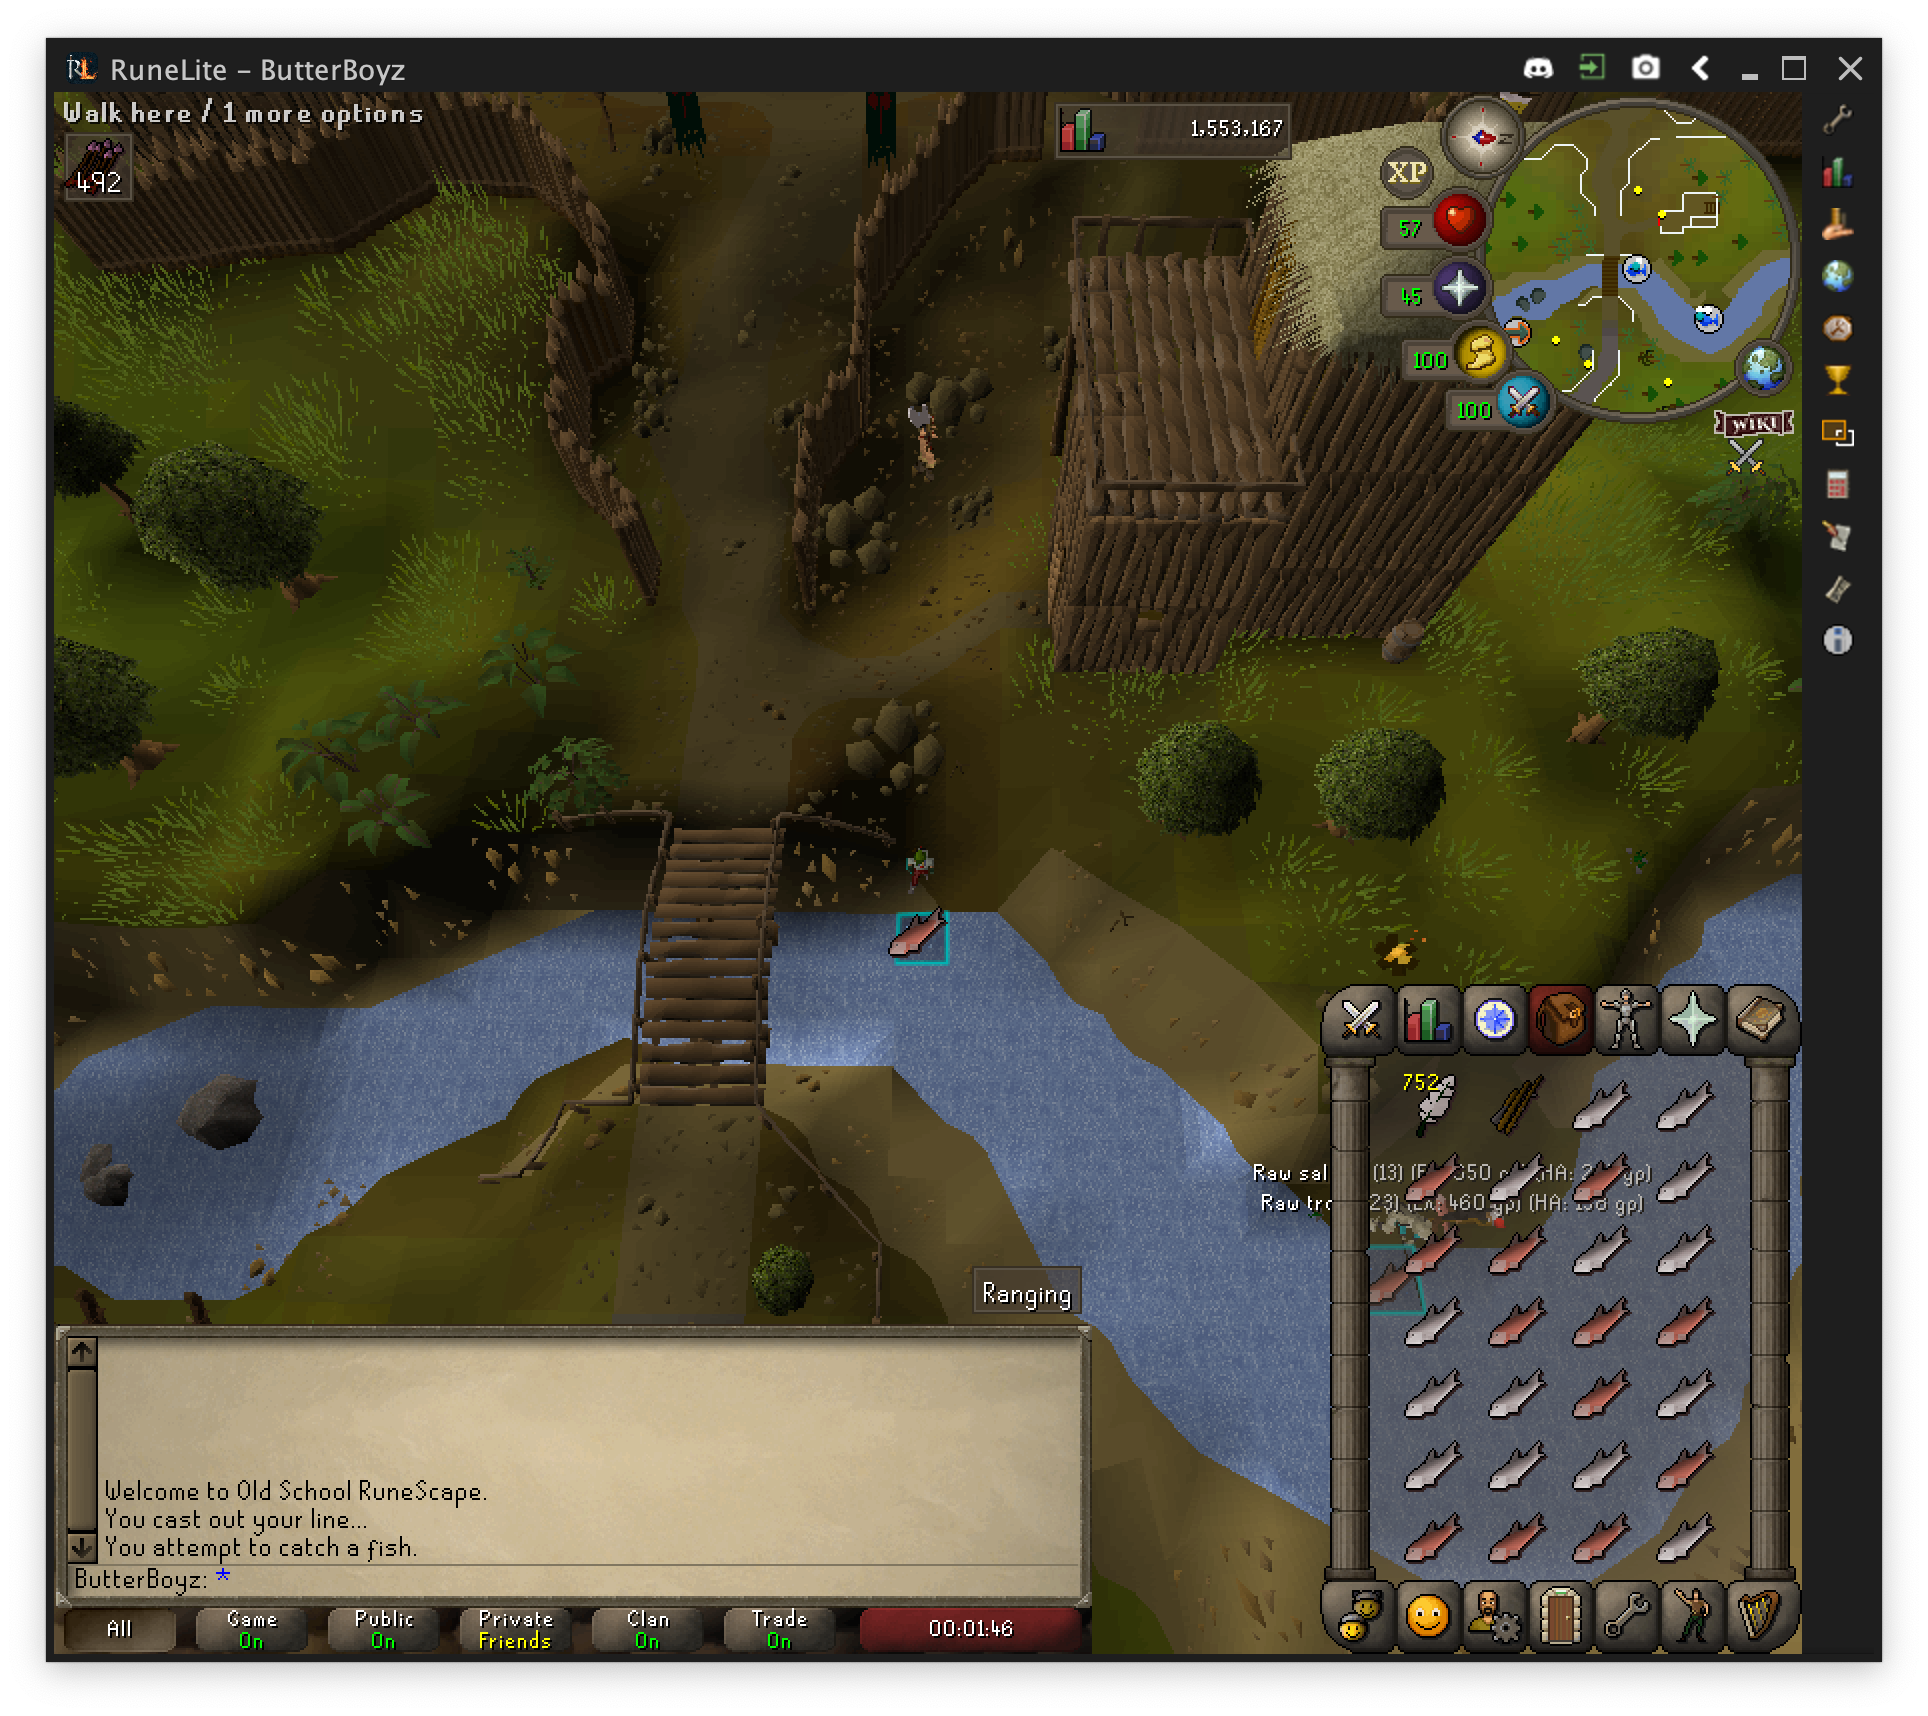fishing spot: (893, 914, 952, 966)
